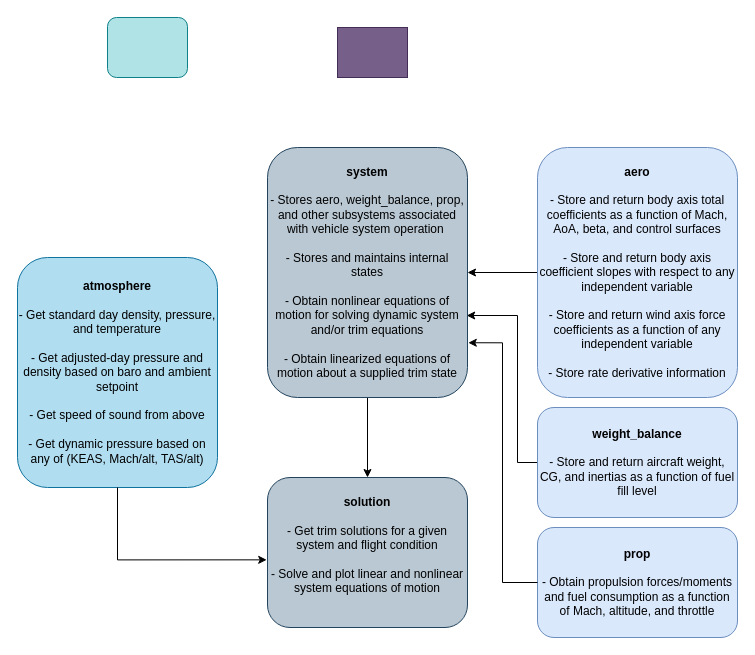
Image size: 755x655. Some labels were removed from this diagram. The centre of each missing label's shape, as x and y in pixels:
"__init__" goes at [147,47].
"PyFSD" goes at [372,52].
